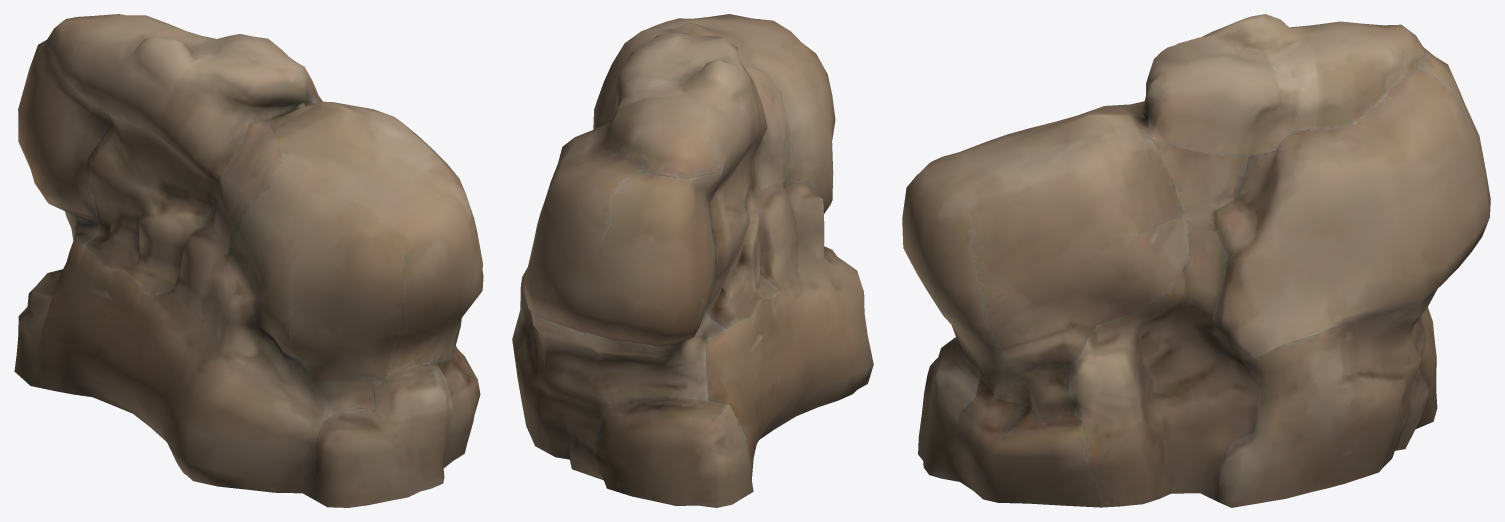
The picture shows the model from 3 angles, left to right: view 1: azimuth 30°, elevation 25°; view 2: azimuth 150°, elevation 25°; view 3: azimuth 270°, elevation 25°; orthographic projection. The views are drawn at different scales.
Parts seen in each view (by area): view 1: body0_model0_lod0_mesh0; view 2: body0_model0_lod0_mesh0; view 3: body0_model0_lod0_mesh0.
Part boxes in pixels (<box>): body0_model0_lod0_mesh0: <box>14,14,483,507</box>; body0_model0_lod0_mesh0: <box>512,14,873,507</box>; body0_model0_lod0_mesh0: <box>902,14,1490,507</box>.
Size of the model in its own units: 370 by 446 by 604.
1 material, 1 textured.
